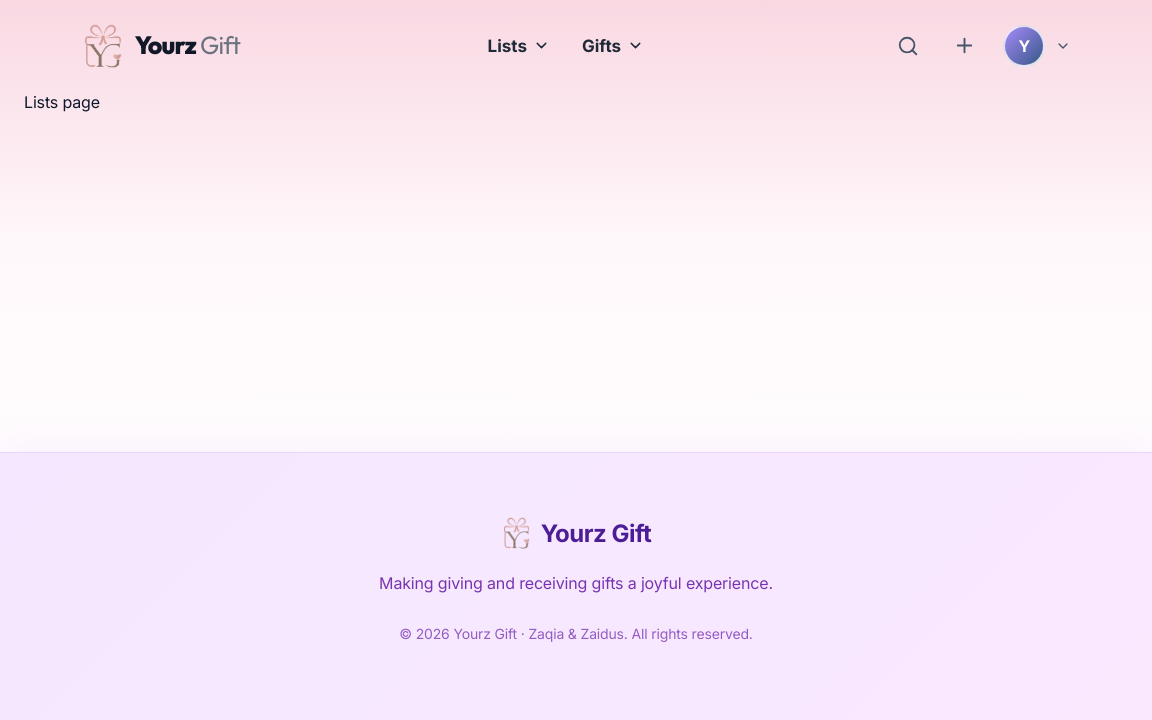
Test: common components › opens list navigation dropdown
Click the button "Lists": x=519, y=46 [474,24,564,66]
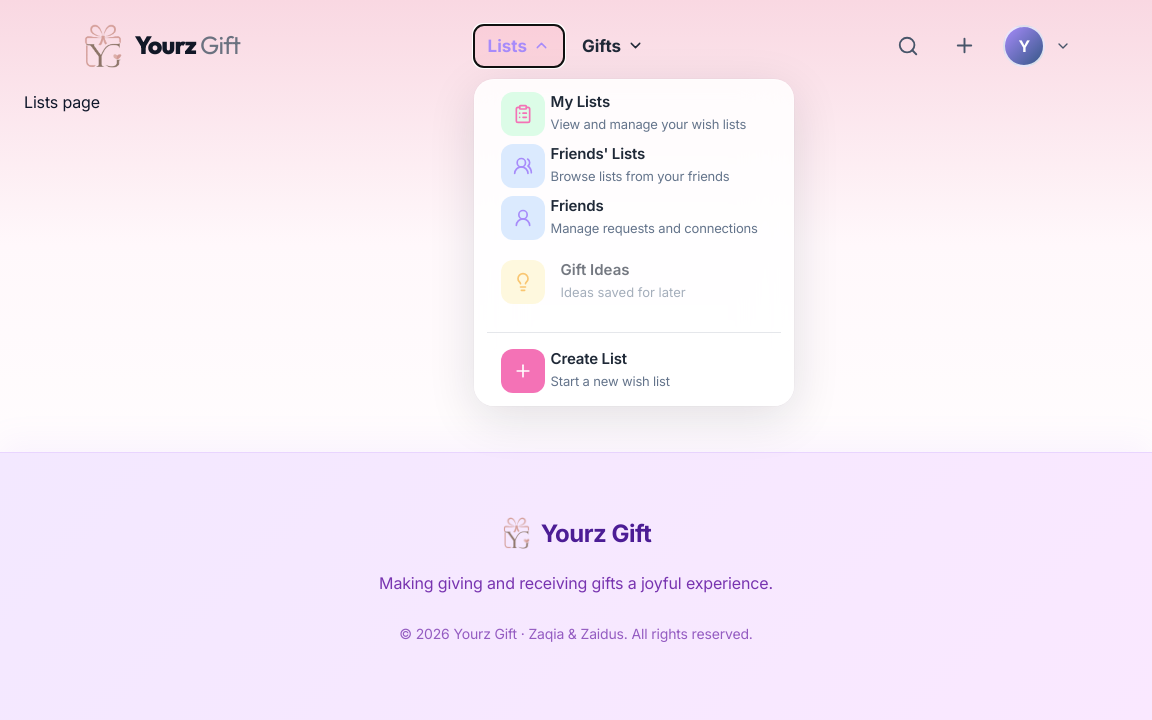
Now the menu item "My Lists View and manage your wish lists" is shown, box [501,92,746,136]
Now the menu item "Friends' Lists Browse lists from your friends" is shown, box [501,144,730,188]
Now the menu item "Friends Manage requests and connections" is shown, box [487,196,781,240]
